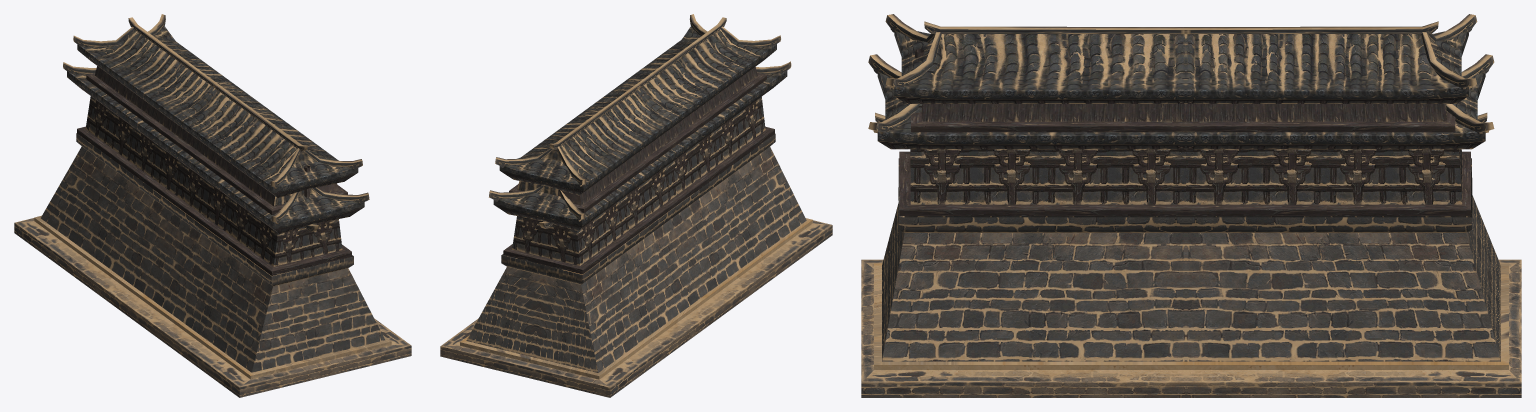
The model's file is sm_jianzhu_3.FBX.
The picture shows the model from 3 angles, left to right: view 1: azimuth 30°, elevation 25°; view 2: azimuth 150°, elevation 25°; view 3: azimuth 270°, elevation 25°; orthographic projection. The views are drawn at different scales.
Visible parts, largest first — view 1: sm_jianzhu_3; view 2: sm_jianzhu_3; view 3: sm_jianzhu_3.
Part boxes in pixels (left/top/right/bottom): sm_jianzhu_3: left=14, top=14, right=411, bottom=397; sm_jianzhu_3: left=440, top=14, right=832, bottom=397; sm_jianzhu_3: left=861, top=14, right=1521, bottom=397.
Bounding box in the file's own units: 1059 × 1264 × 2402.
